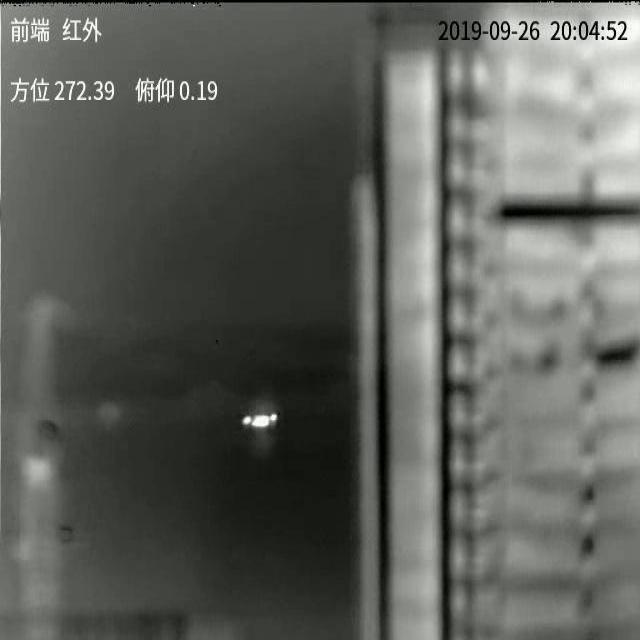drone: (241, 412, 278, 428)
